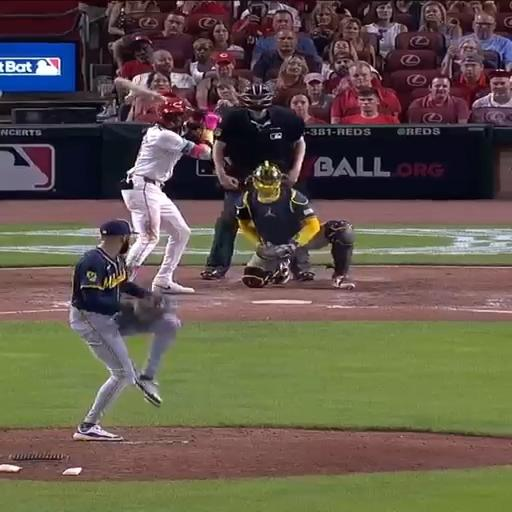bat: (114, 77, 166, 100)
